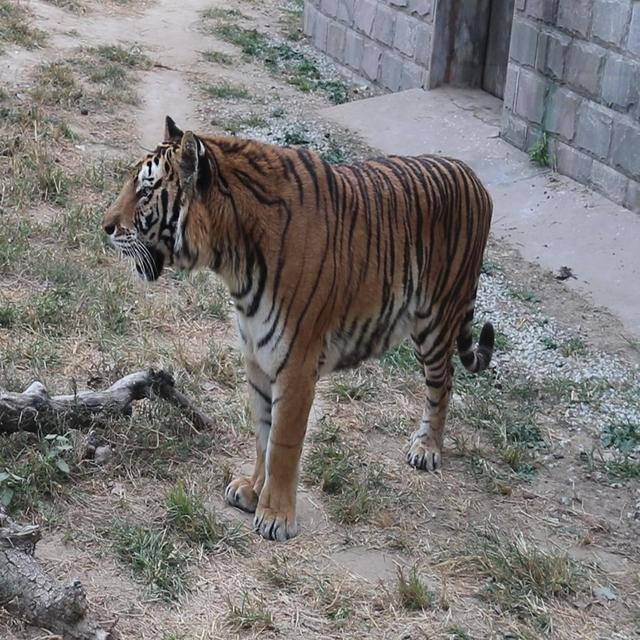tiger: (100, 114, 496, 541), (0, 365, 216, 439)
